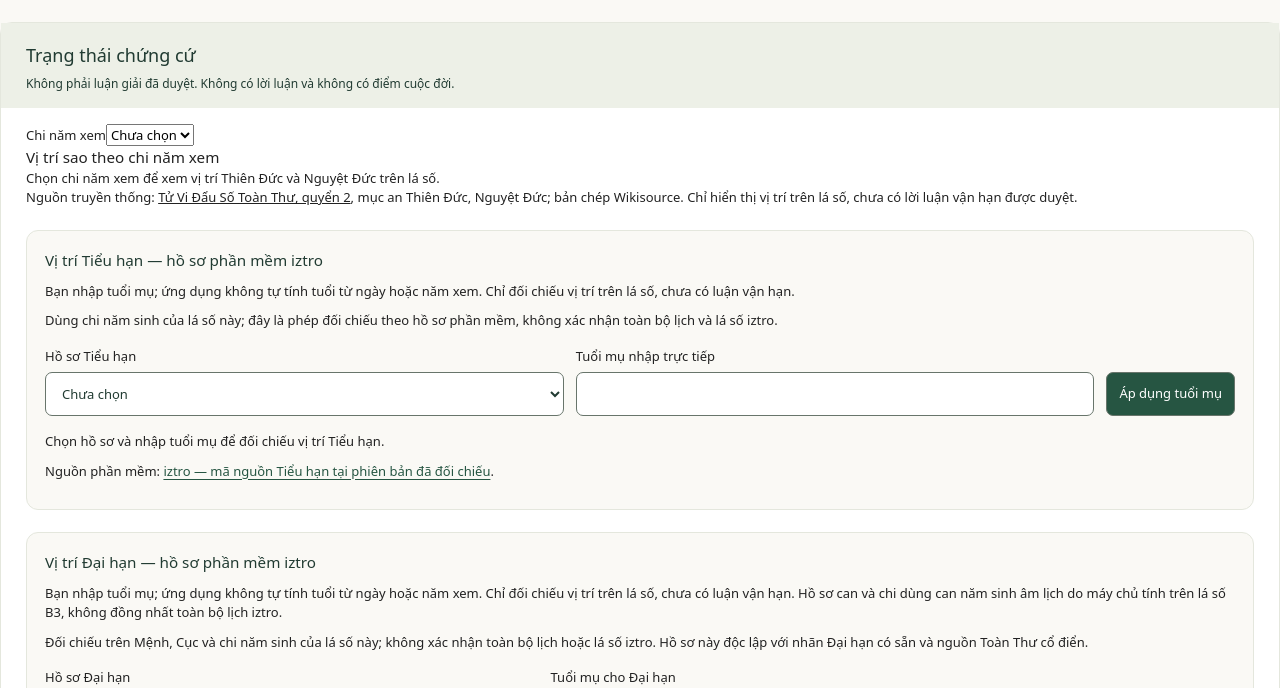
Test: StructuredAnalysis › keeps an older branch-only response readable without inventing a palace
Select "Tí" in the dropdown labelled "Chi năm xem" at (150, 135), box [106,124,194,146]
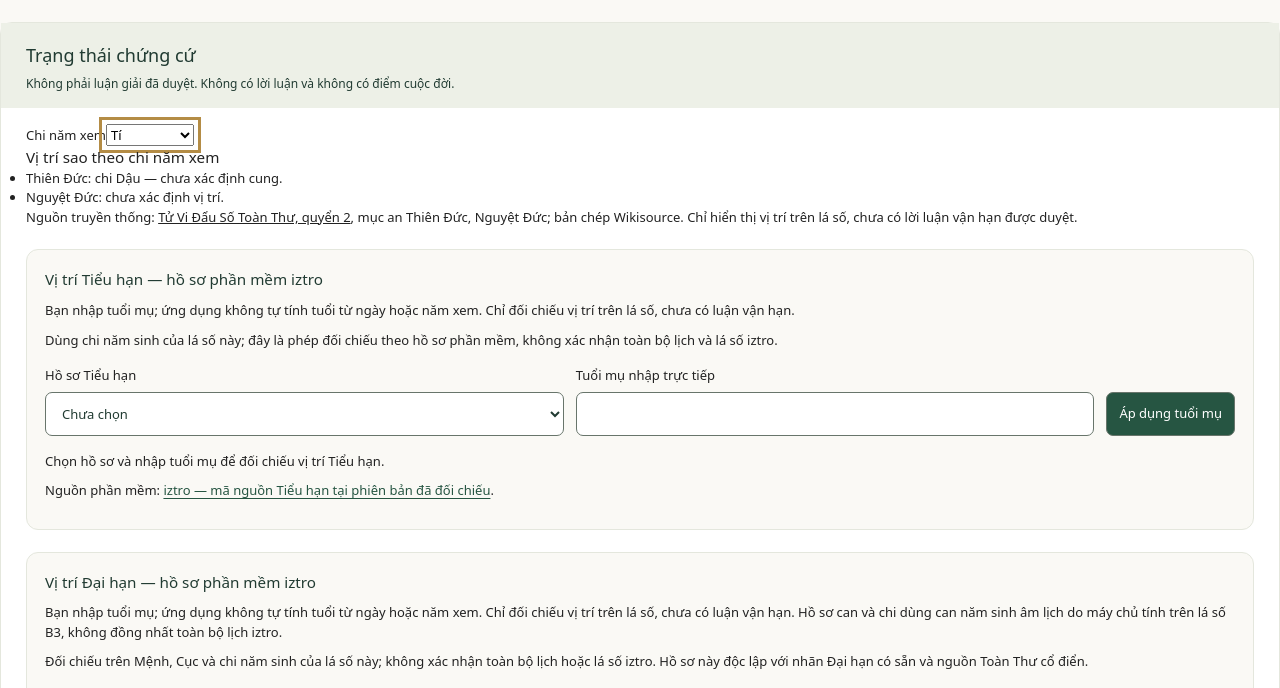
Check: the list item "Thiên Đức: chi Dậu — chưa xác định cung." is shown, box [26,169,282,187]
